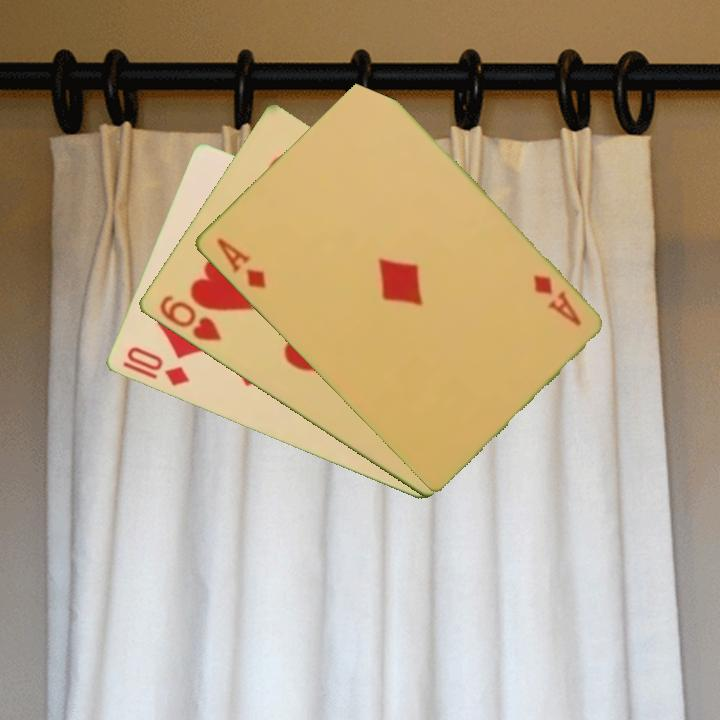10d: (119, 343, 193, 390)
6h: (155, 292, 224, 345)
Ad: (212, 234, 269, 292), (529, 271, 584, 329)
